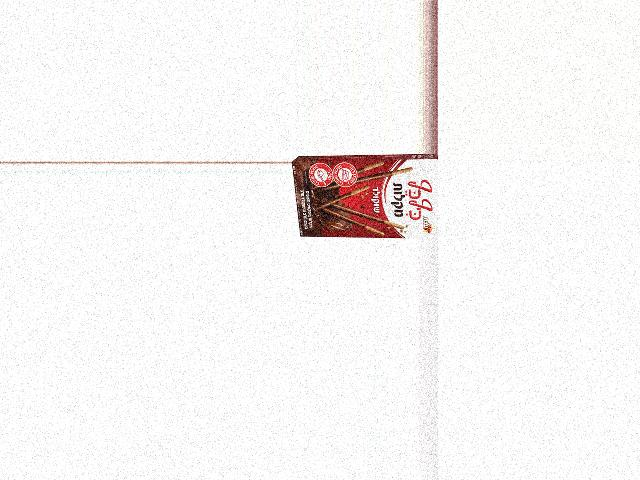chocolate: (301, 155, 437, 239)
